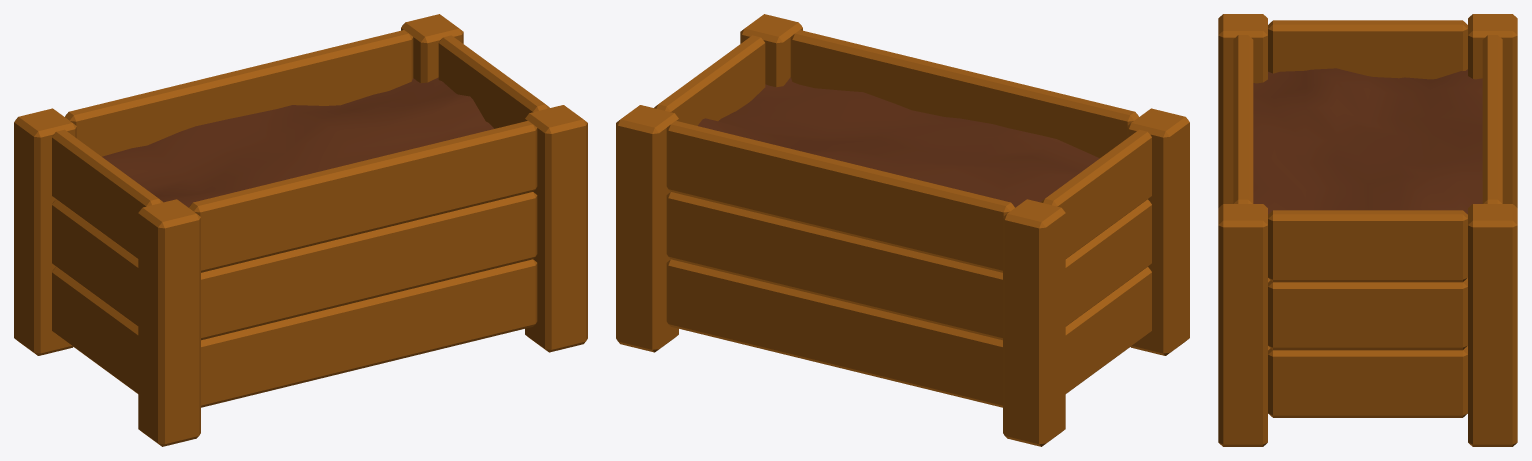
File: planter.glb
3 renders of one model, left to right at view 1: azimuth 30°, elevation 25°; view 2: azimuth 150°, elevation 25°; view 3: azimuth 270°, elevation 25°, orthographic.
Parts seen in each view (by area): view 1: Planter; view 2: Planter; view 3: Planter.
Part boxes in pixels (<box>): Planter: <box>14,14,587,446</box>; Planter: <box>616,14,1189,446</box>; Planter: <box>1218,14,1517,446</box>.
Size of the model in its own units: 1 by 0.5 by 0.6.
